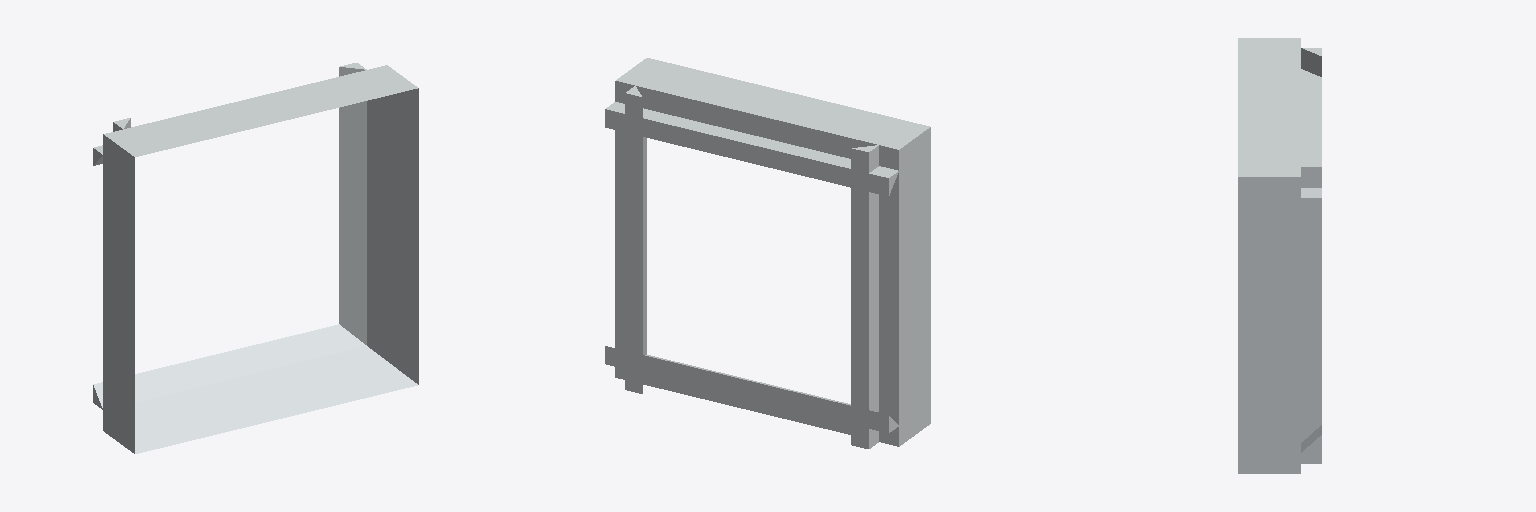
Rendered from tray.obj.
The picture shows the model from 3 angles: view 1: azimuth 30°, elevation 25°; view 2: azimuth 150°, elevation 25°; view 3: azimuth 270°, elevation 25°; orthographic projection.
Size of the model in its own units: 400 by 400 by 102.